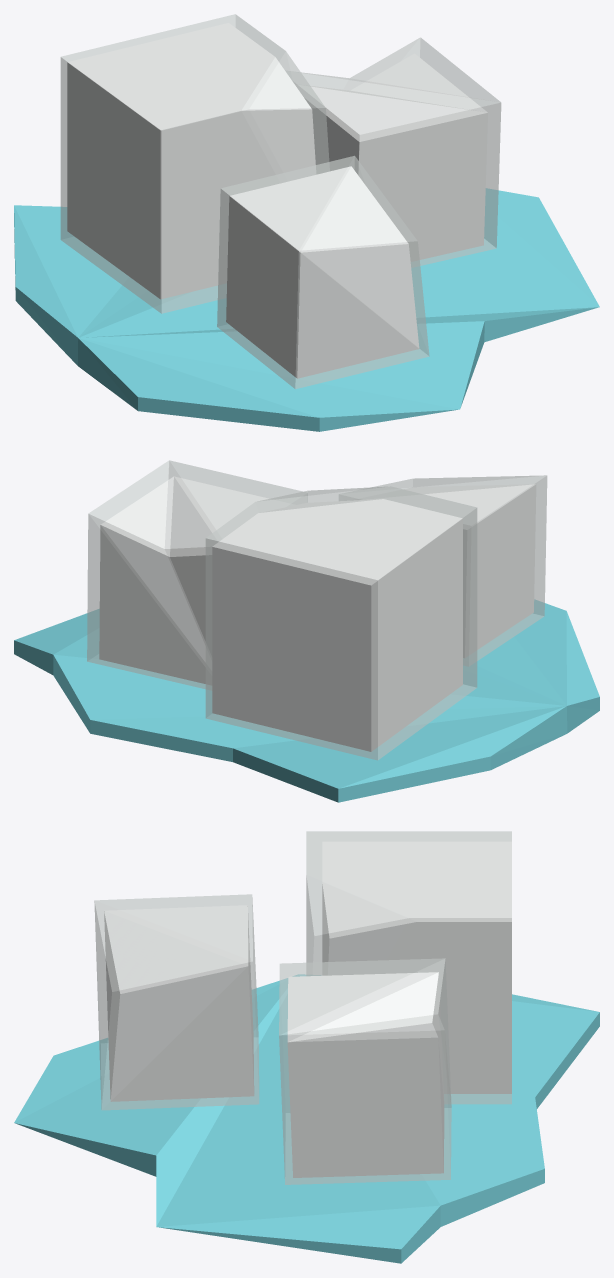
Rendered from ice-cubes.glb.
The picture shows the model from 3 angles, top to bottom: view 1: azimuth 30°, elevation 25°; view 2: azimuth 150°, elevation 25°; view 3: azimuth 270°, elevation 25°; orthographic projection. The views are drawn at different scales.
Parts seen in each view (by area): view 1: Node; view 2: Node; view 3: Node.
Boxes of the visible parts, x1,y1,x2,y2 form: Node: [14, 14, 599, 431]; Node: [14, 460, 599, 802]; Node: [14, 831, 599, 1263].
Size of the model in its own units: 0.76 by 0.32 by 0.7414.
